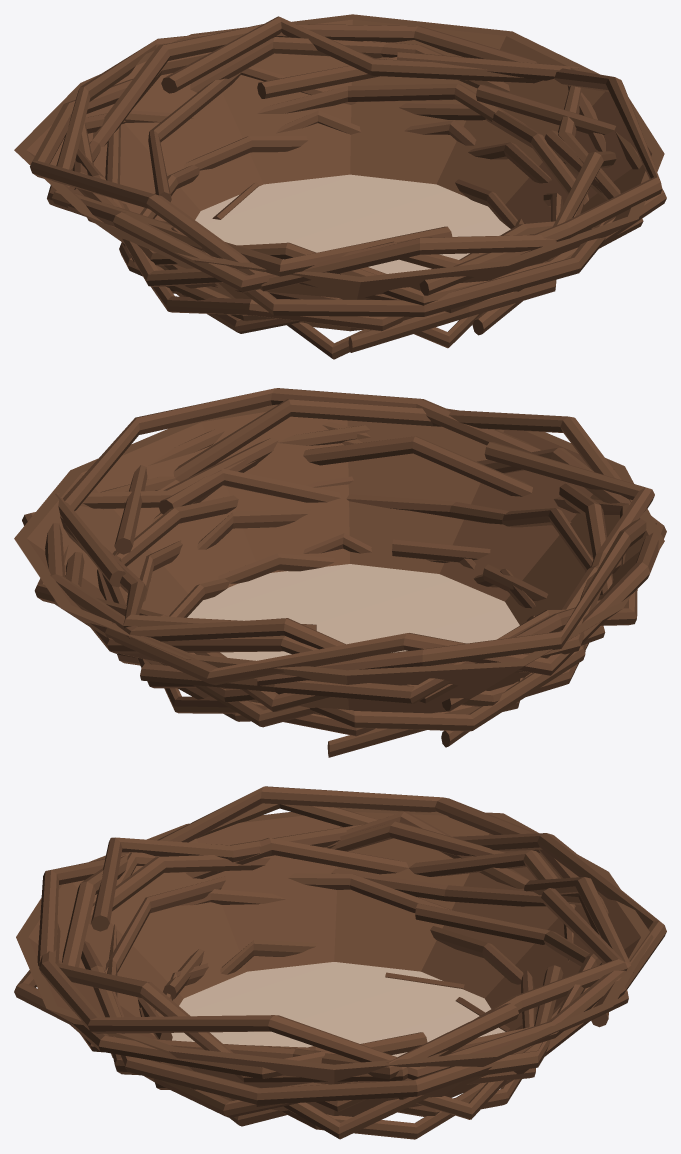
The model's file is BirdNest.fbx.
3 views of the same model, one above another, from view 1: azimuth 30°, elevation 25°; view 2: azimuth 150°, elevation 25°; view 3: azimuth 270°, elevation 25° (orthographic). The views are drawn at different scales.
Parts seen in each view (by area): view 1: BirdNest; view 2: BirdNest; view 3: BirdNest.
Part boxes in pixels (bbox=[...]): BirdNest: bbox=[14, 14, 666, 359]; BirdNest: bbox=[14, 388, 666, 757]; BirdNest: bbox=[14, 786, 666, 1139].
Size of the model in its own units: 34.94 by 10.53 by 36.19.
